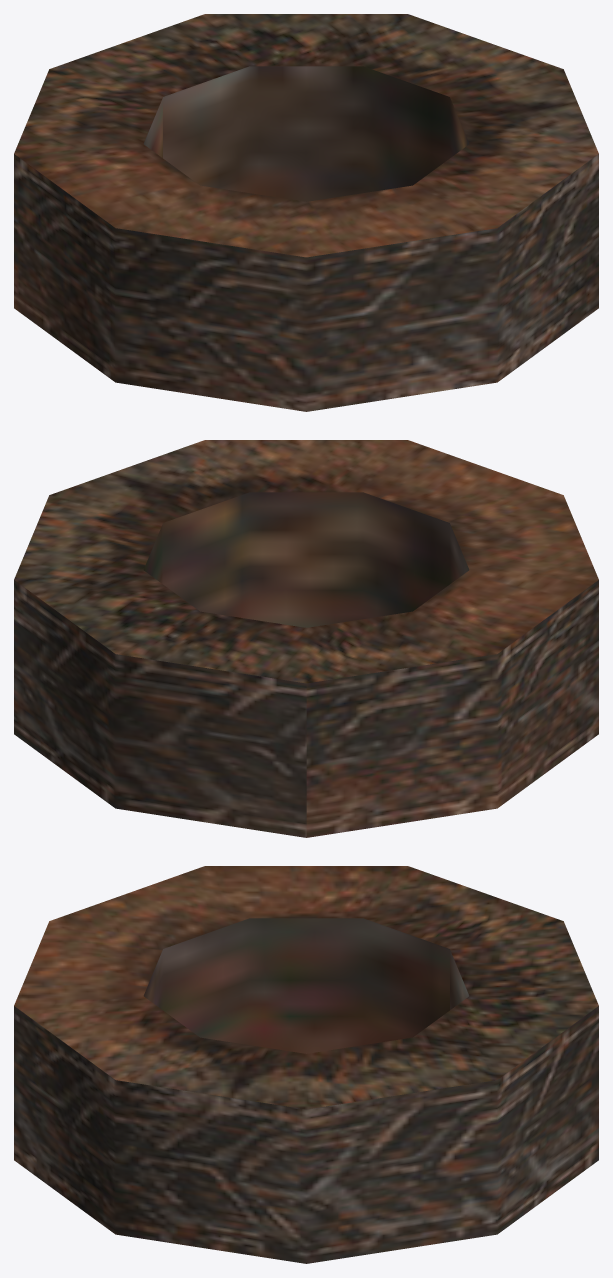
The model's file is tyre_old.FBX.
3 views of the same model, one above another, from view 1: azimuth 30°, elevation 25°; view 2: azimuth 150°, elevation 25°; view 3: azimuth 270°, elevation 25° (orthographic).
Parts seen in each view (by area): view 1: prop_tyres; view 2: prop_tyres; view 3: prop_tyres.
Part boxes in pixels (bbox=[...]): prop_tyres: bbox=[14, 14, 598, 411]; prop_tyres: bbox=[14, 440, 598, 837]; prop_tyres: bbox=[14, 866, 598, 1263].
Bounding box in the file's own units: 191 × 56.43 × 194.
1 material, 1 textured.
